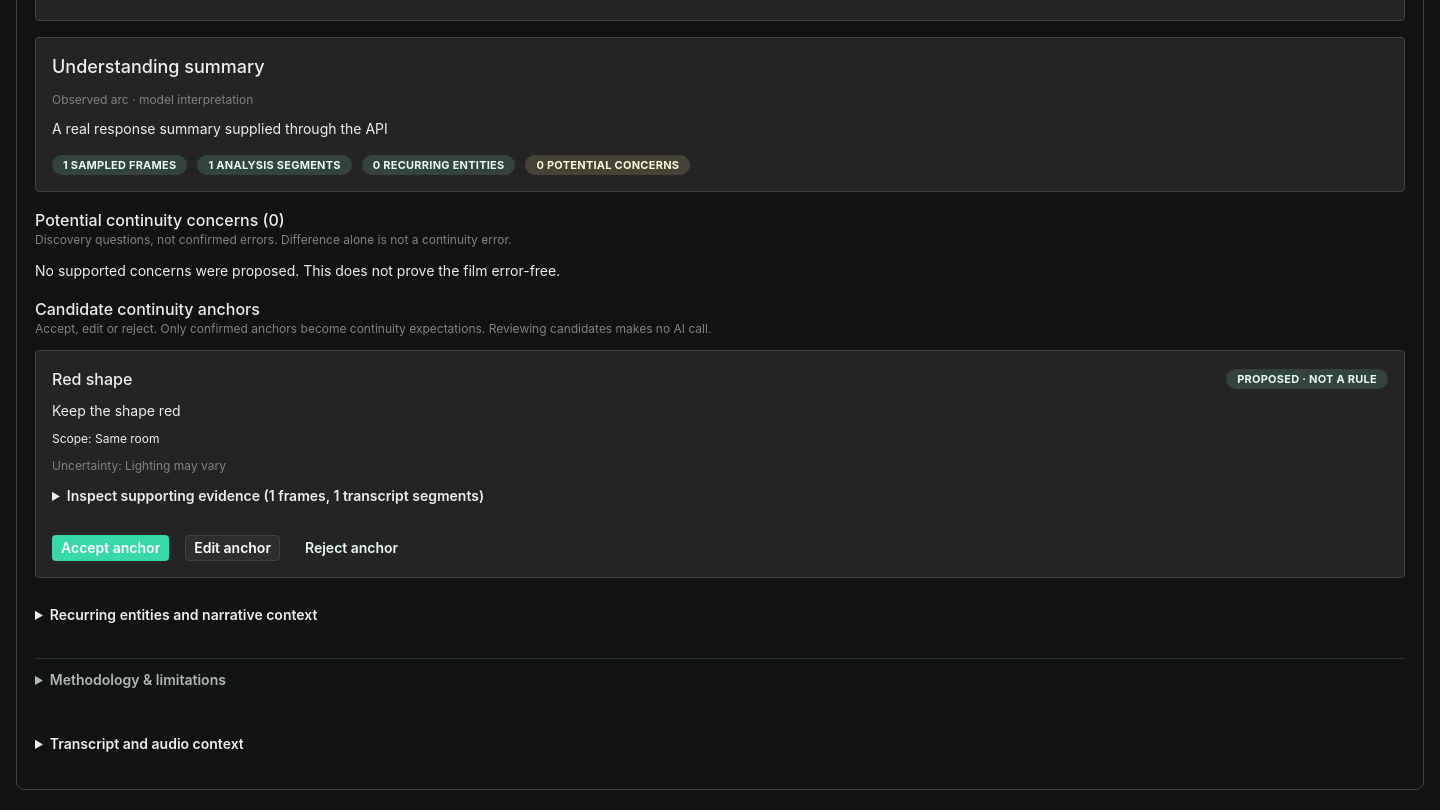
Test: rejected candidates never offer visual promotion or claim confirmed authority
(page scrolled)
What coordinates should you click on to do the following:
click the button "Reject anchor"
I would click on:
 (352, 548)
Its box is [296,535,407,561].
(page scrolled)
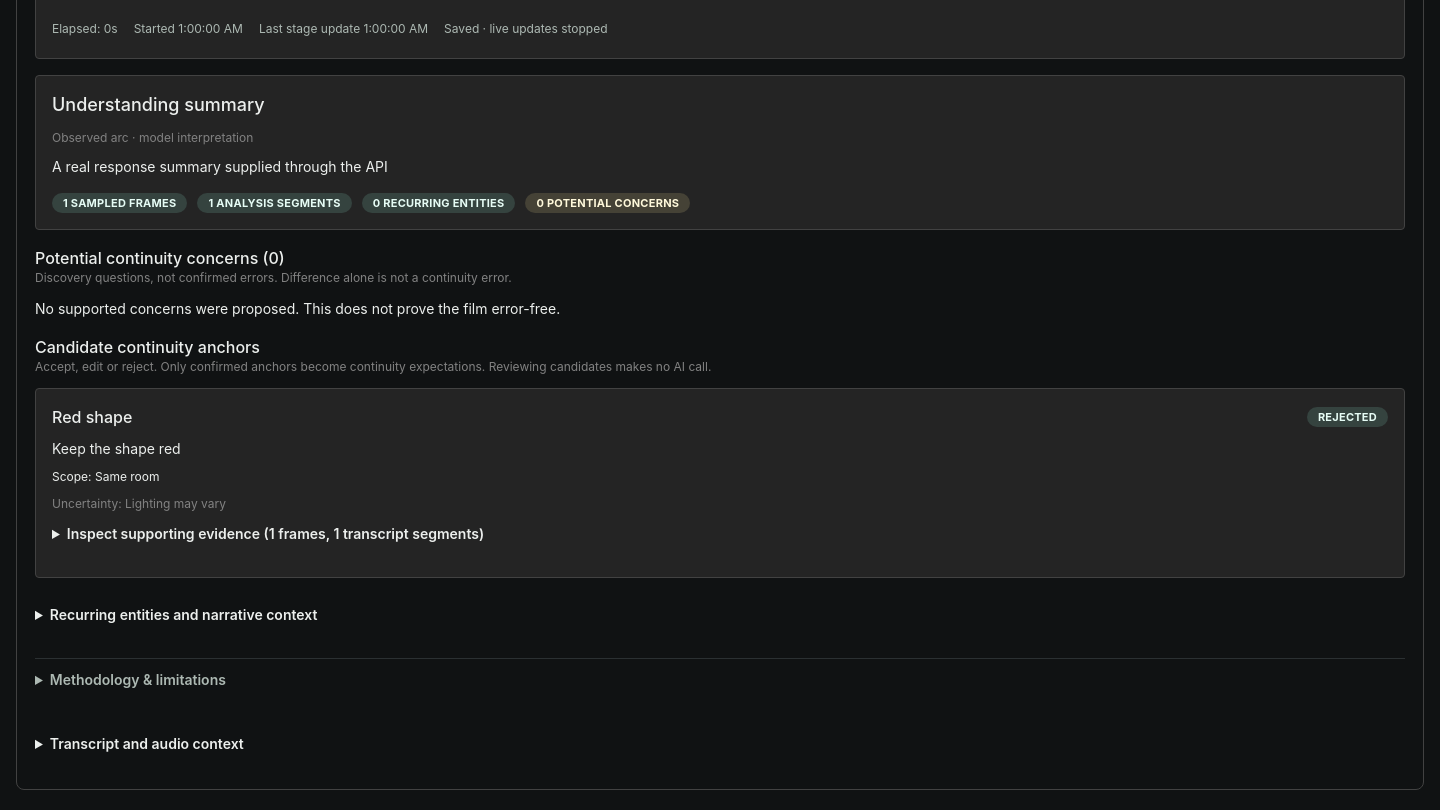
Expected: the text "REJECTED" is shown, [1318,408,1377,426]
